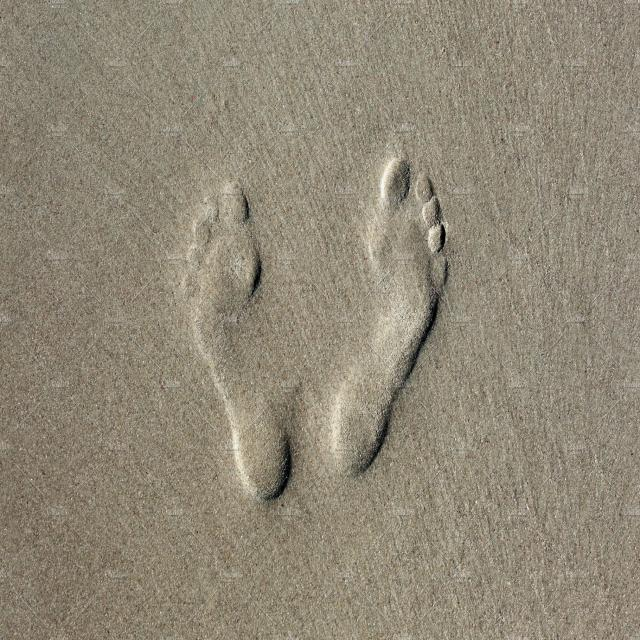human_foot_print: (175, 147, 454, 509)
